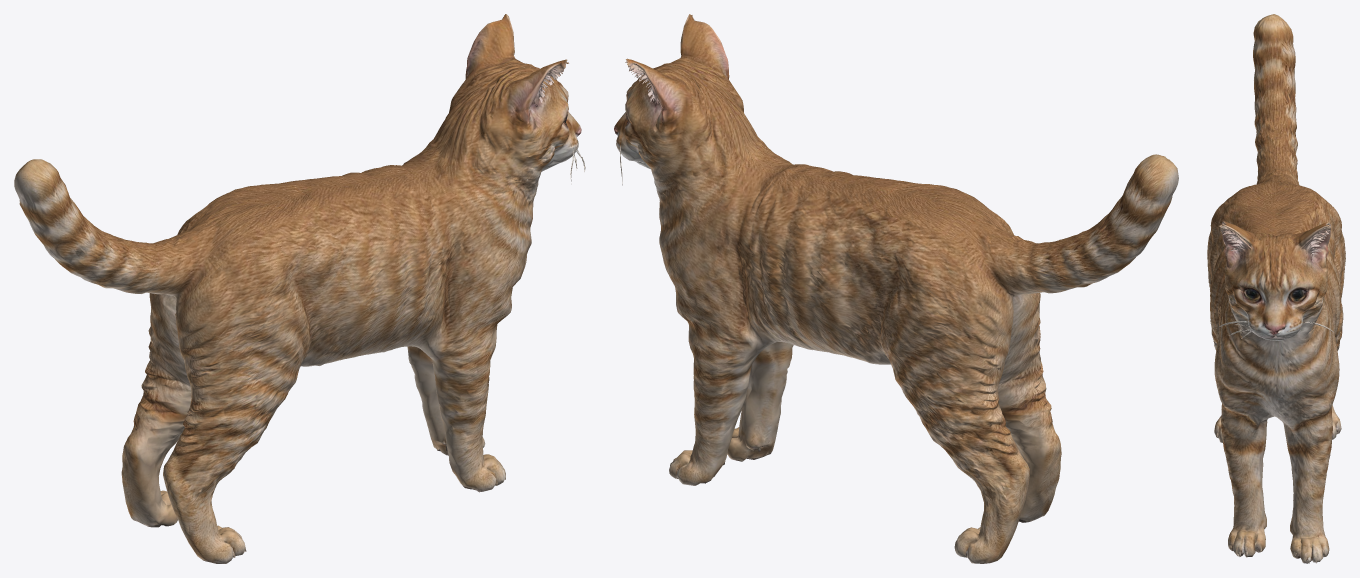
Rendered from SAYHIBOB.glb.
3 renders of one model, left to right at view 1: azimuth 30°, elevation 25°; view 2: azimuth 150°, elevation 25°; view 3: azimuth 270°, elevation 25°, orthographic. The views are drawn at different scales.
Visible parts, largest first — view 1: tripo_node_9006b4e8-722f-4687-a383-f01a0df454eb; view 2: tripo_node_9006b4e8-722f-4687-a383-f01a0df454eb; view 3: tripo_node_9006b4e8-722f-4687-a383-f01a0df454eb.
Boxes of the visible parts, <box> form: tripo_node_9006b4e8-722f-4687-a383-f01a0df454eb: <box>14,14,585,563</box>; tripo_node_9006b4e8-722f-4687-a383-f01a0df454eb: <box>614,14,1178,563</box>; tripo_node_9006b4e8-722f-4687-a383-f01a0df454eb: <box>1207,14,1345,563</box>.
Bounding box in the file's own units: 1.4 × 0.999 × 0.3511.
1 material, 1 textured.
